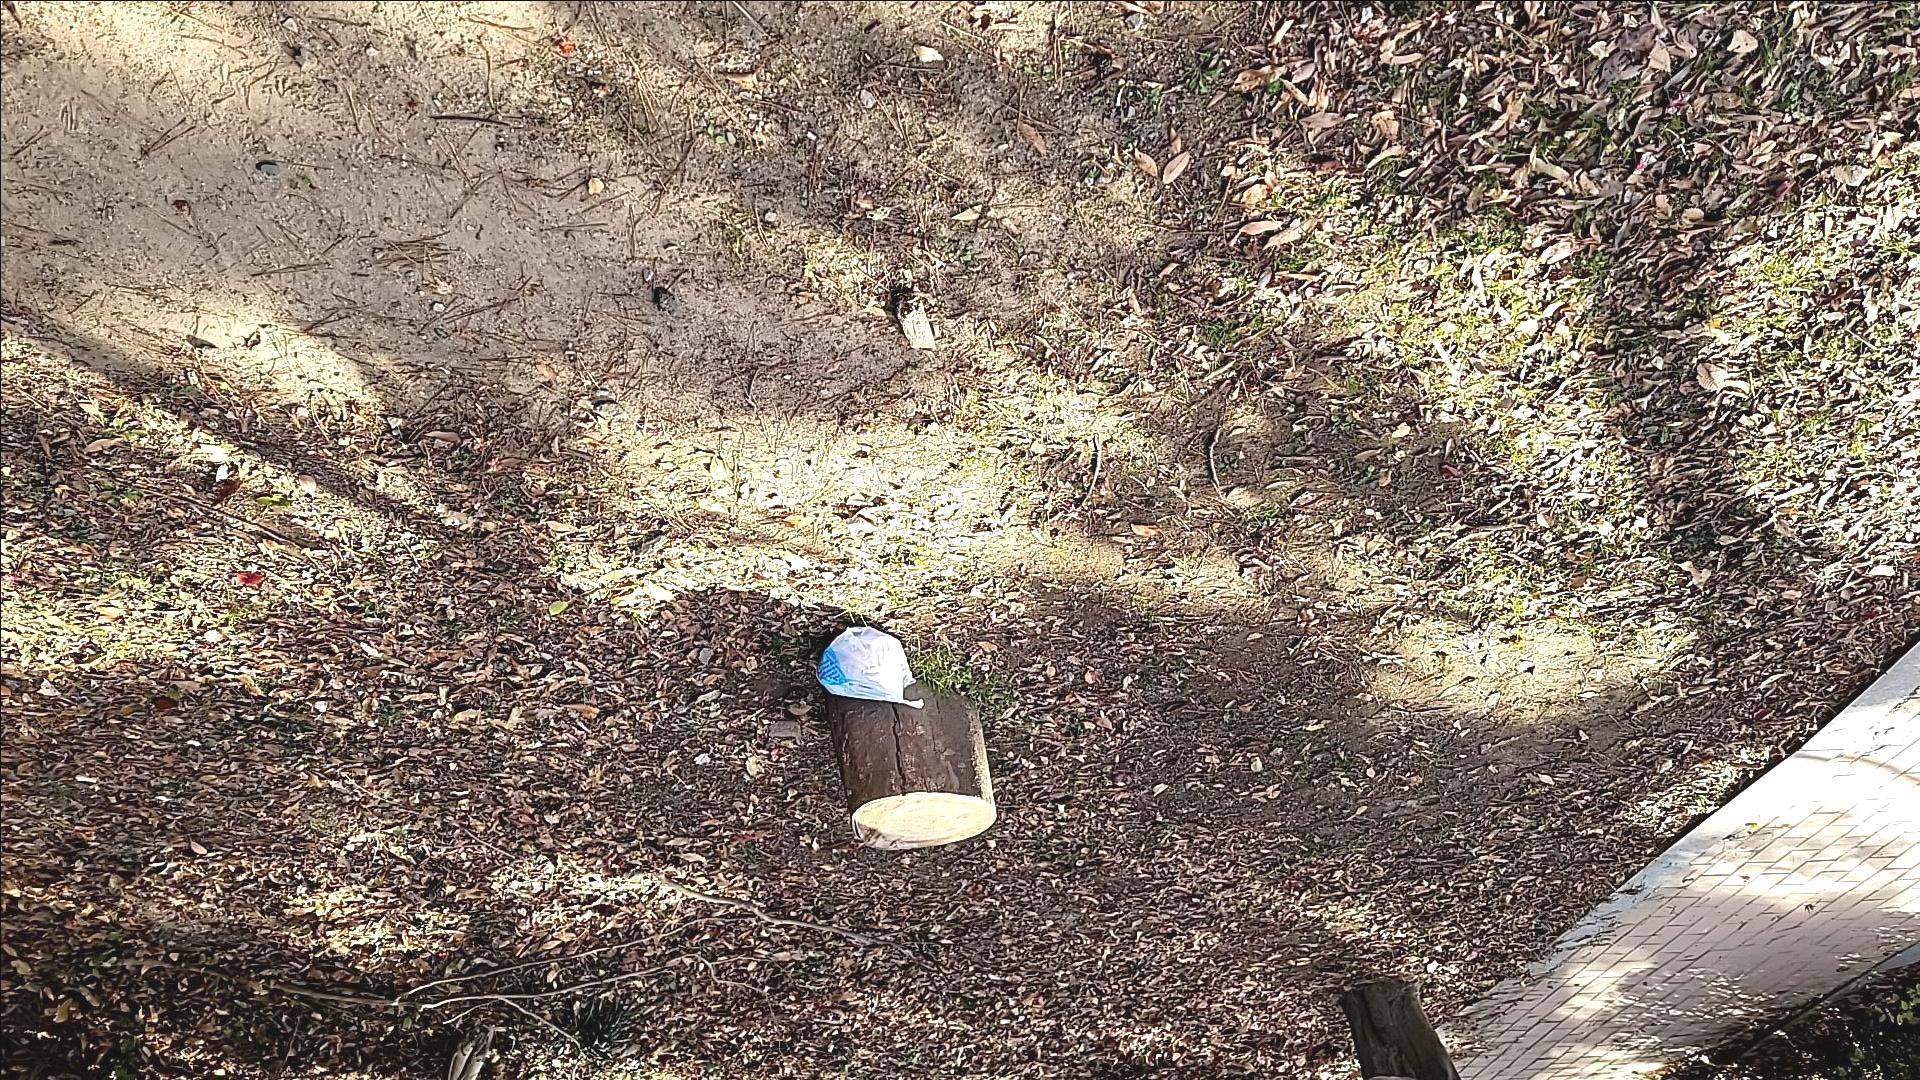white_bag: (812, 622, 926, 712)
